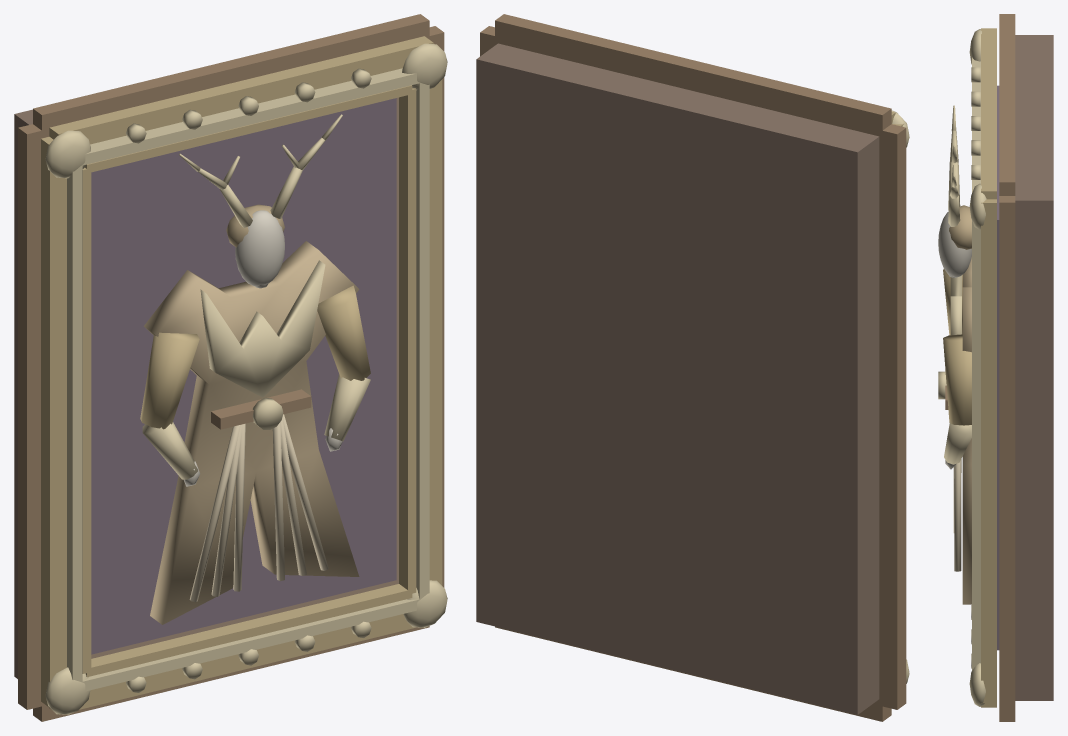
Rendered from ART-55.glb.
3 views of the same model, side by side, from view 1: azimuth 30°, elevation 25°; view 2: azimuth 150°, elevation 25°; view 3: azimuth 270°, elevation 25° (orthographic). The views are drawn at different scales.
Visible parts, largest first — view 1: world; view 2: world; view 3: world.
Part boxes in pixels (x1=…): world: x1=14, y1=14, x2=447, y2=721; world: x1=476, y1=14, x2=909, y2=721; world: x1=938, y1=14, x2=1053, y2=721.
Bounding box in the file's own units: 1.44 × 2 × 0.3881.
